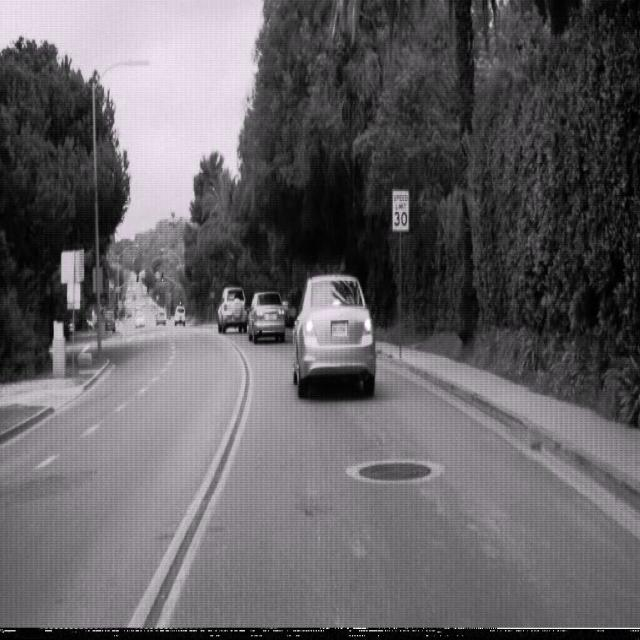speedLimit30: (392, 189, 409, 232)
